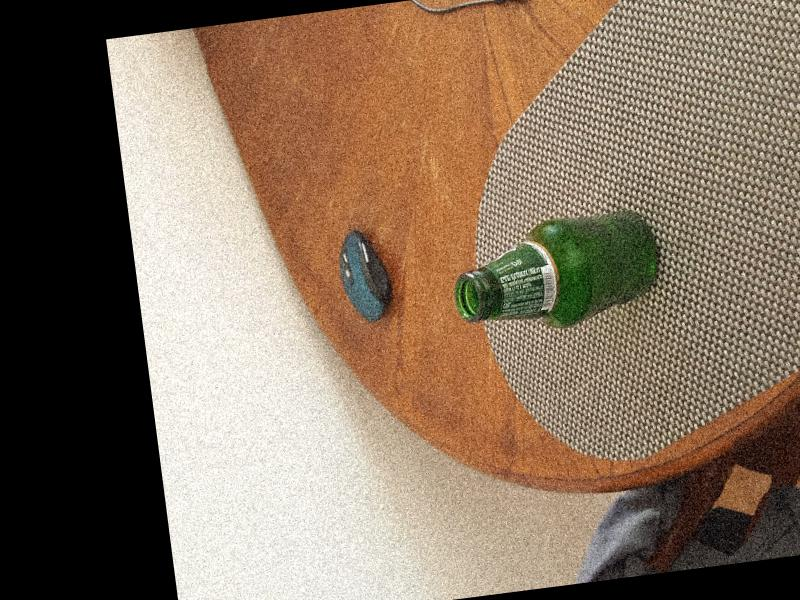Beer: (445, 201, 666, 344)
